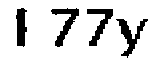7: (44, 6, 80, 51), (84, 5, 115, 48)
l: (12, 6, 35, 53)
y: (116, 17, 150, 59)
